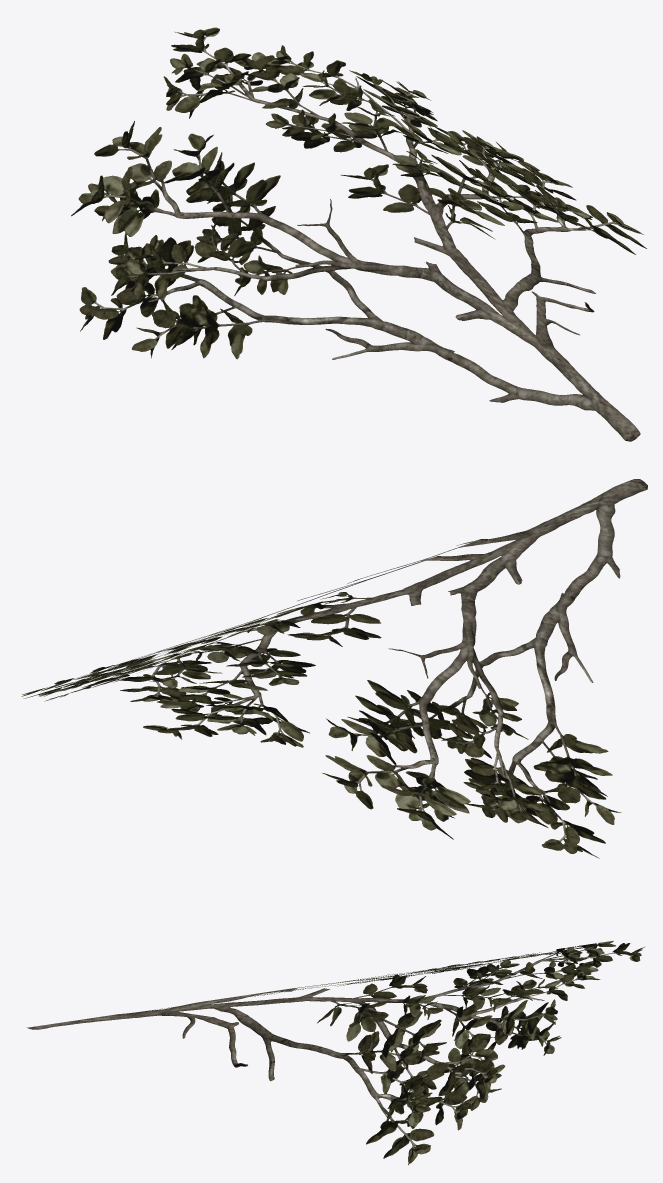
The model's file is TI_Bush_02_Part_08.fbx.
3 views of the same model, one above another, from view 1: azimuth 30°, elevation 25°; view 2: azimuth 150°, elevation 25°; view 3: azimuth 270°, elevation 25° (orthographic). The views are drawn at different scales.
Visible parts, largest first — view 1: TI_Bush_02_Part_08; view 2: TI_Bush_02_Part_08; view 3: TI_Bush_02_Part_08.
Boxes of the visible parts, bbox=[...] form: TI_Bush_02_Part_08: bbox=[71, 27, 646, 441]; TI_Bush_02_Part_08: bbox=[21, 479, 647, 858]; TI_Bush_02_Part_08: bbox=[27, 940, 645, 1165].
Bounding box in the file's own units: 1.3 × 0.3423 × 1.72.
